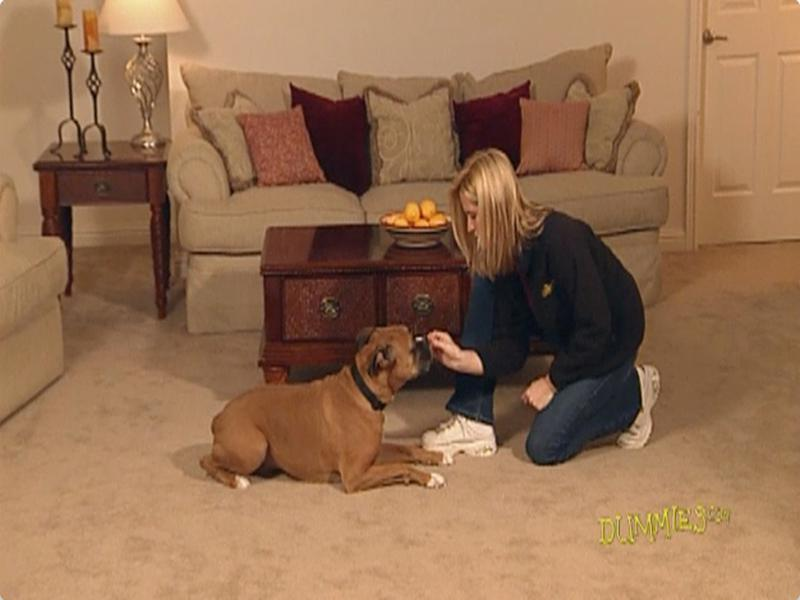dog_down: (199, 321, 449, 494)
